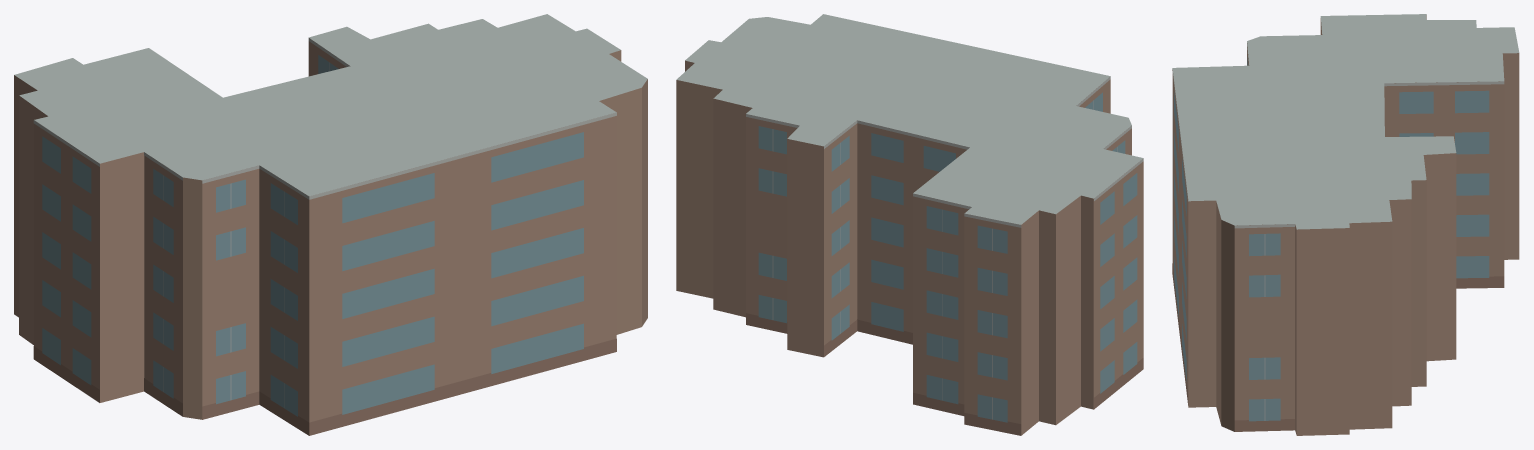
Rendered from survey-upis-32634703.glb.
The picture shows the model from 3 angles, left to right: view 1: azimuth 30°, elevation 25°; view 2: azimuth 150°, elevation 25°; view 3: azimuth 270°, elevation 25°; orthographic projection. The views are drawn at different scales.
Visible parts, largest first — view 1: survey-upis-32634703.tmp; view 2: survey-upis-32634703.tmp; view 3: survey-upis-32634703.tmp.
Boxes of the visible parts, x1,y1,x2,y2 form: survey-upis-32634703.tmp: (14,14,647,435); survey-upis-32634703.tmp: (676,14,1143,435); survey-upis-32634703.tmp: (1172,14,1519,435).
Size of the model in its own units: 38.95 by 17.4 by 26.51.
